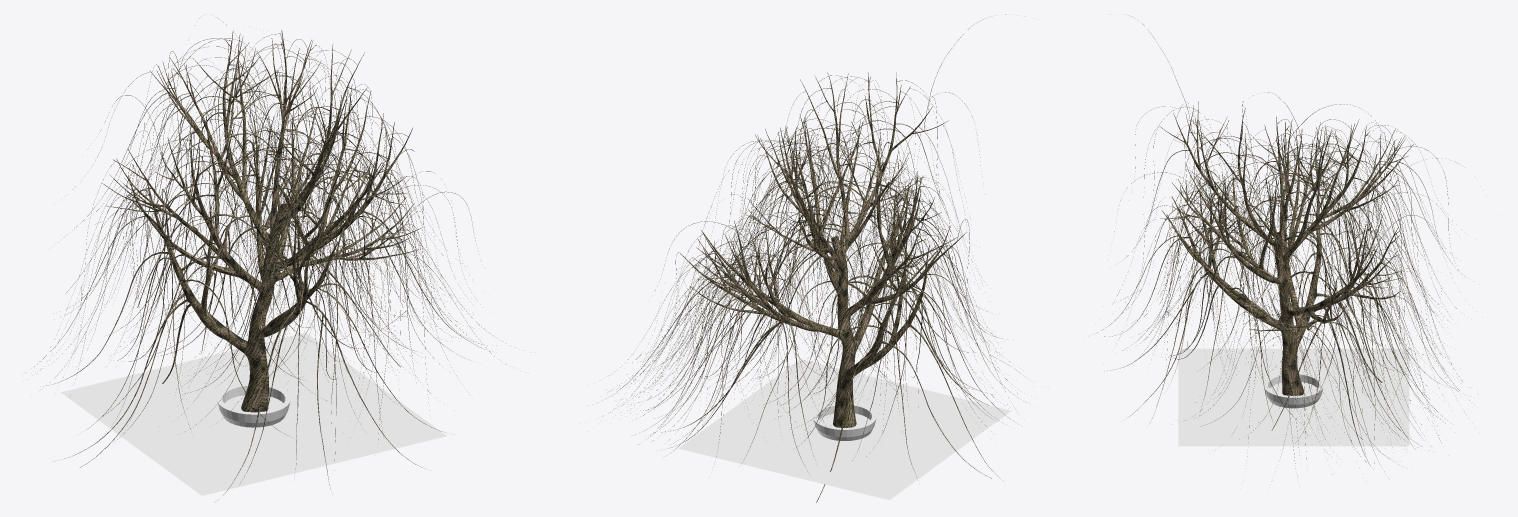
File: Tree.glb
The picture shows the model from 3 angles, left to right: view 1: azimuth 30°, elevation 25°; view 2: azimuth 150°, elevation 25°; view 3: azimuth 270°, elevation 25°; orthographic projection. The views are drawn at different scales.
Visible parts, largest first — view 1: Tree_5174, Plane, Cylinder; view 2: Tree_5174, Plane, Cylinder; view 3: Tree_5174, Plane, Cylinder.
Part boxes in pixels (bbox=[...]): Tree_5174: bbox=[34, 18, 510, 500]; Plane: bbox=[61, 332, 446, 495]; Cylinder: bbox=[217, 383, 290, 427]; Tree_5174: bbox=[603, 14, 1020, 502]; Plane: bbox=[678, 359, 1011, 499]; Cylinder: bbox=[813, 403, 876, 440]; Tree_5174: bbox=[1097, 14, 1469, 475]; Plane: bbox=[1178, 348, 1409, 446]; Cylinder: bbox=[1264, 372, 1323, 408].
Size of the model in its own units: 19.29 by 16.93 by 17.77.
4 materials, 1 textured.
